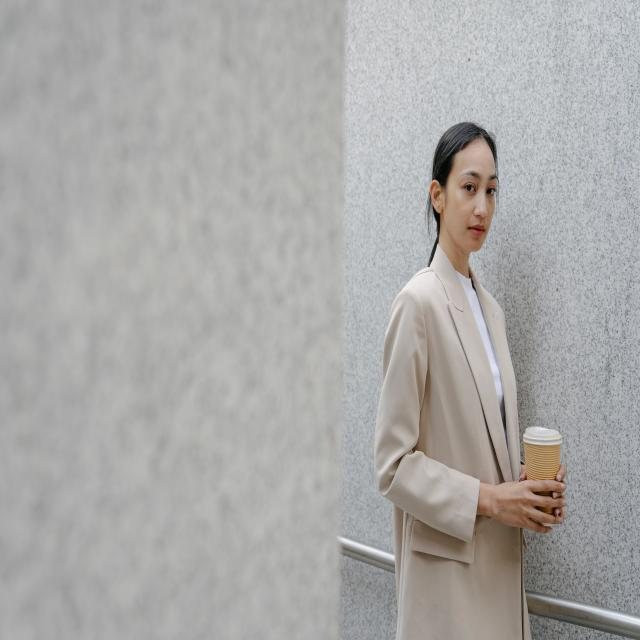cup: (521, 424, 563, 526)
